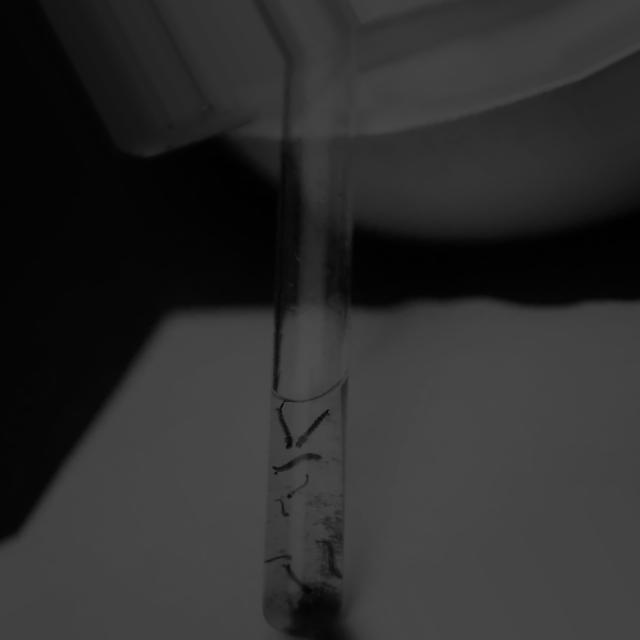larvas: (296, 409, 327, 450), (274, 453, 320, 475), (316, 540, 341, 577), (285, 565, 311, 594), (277, 405, 293, 447), (286, 476, 310, 497), (264, 554, 294, 566), (274, 496, 288, 519)
